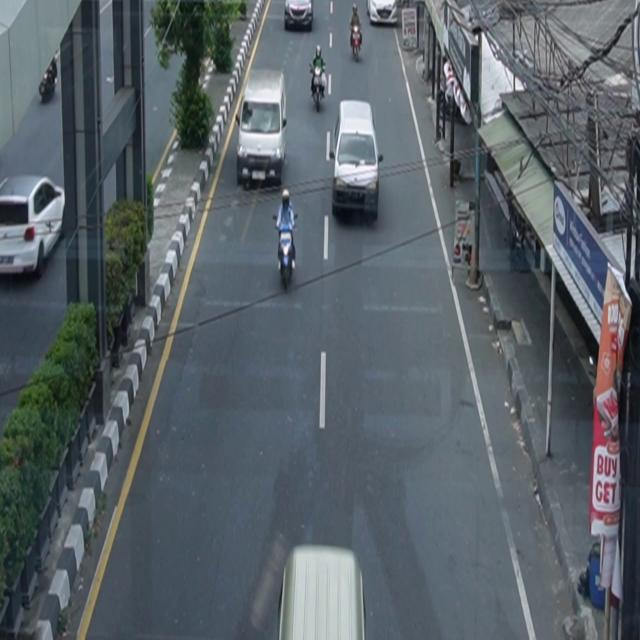car: (1, 175, 66, 280), (331, 100, 384, 222), (285, 1, 314, 32), (367, 1, 398, 26)
truck: (236, 69, 288, 190)
